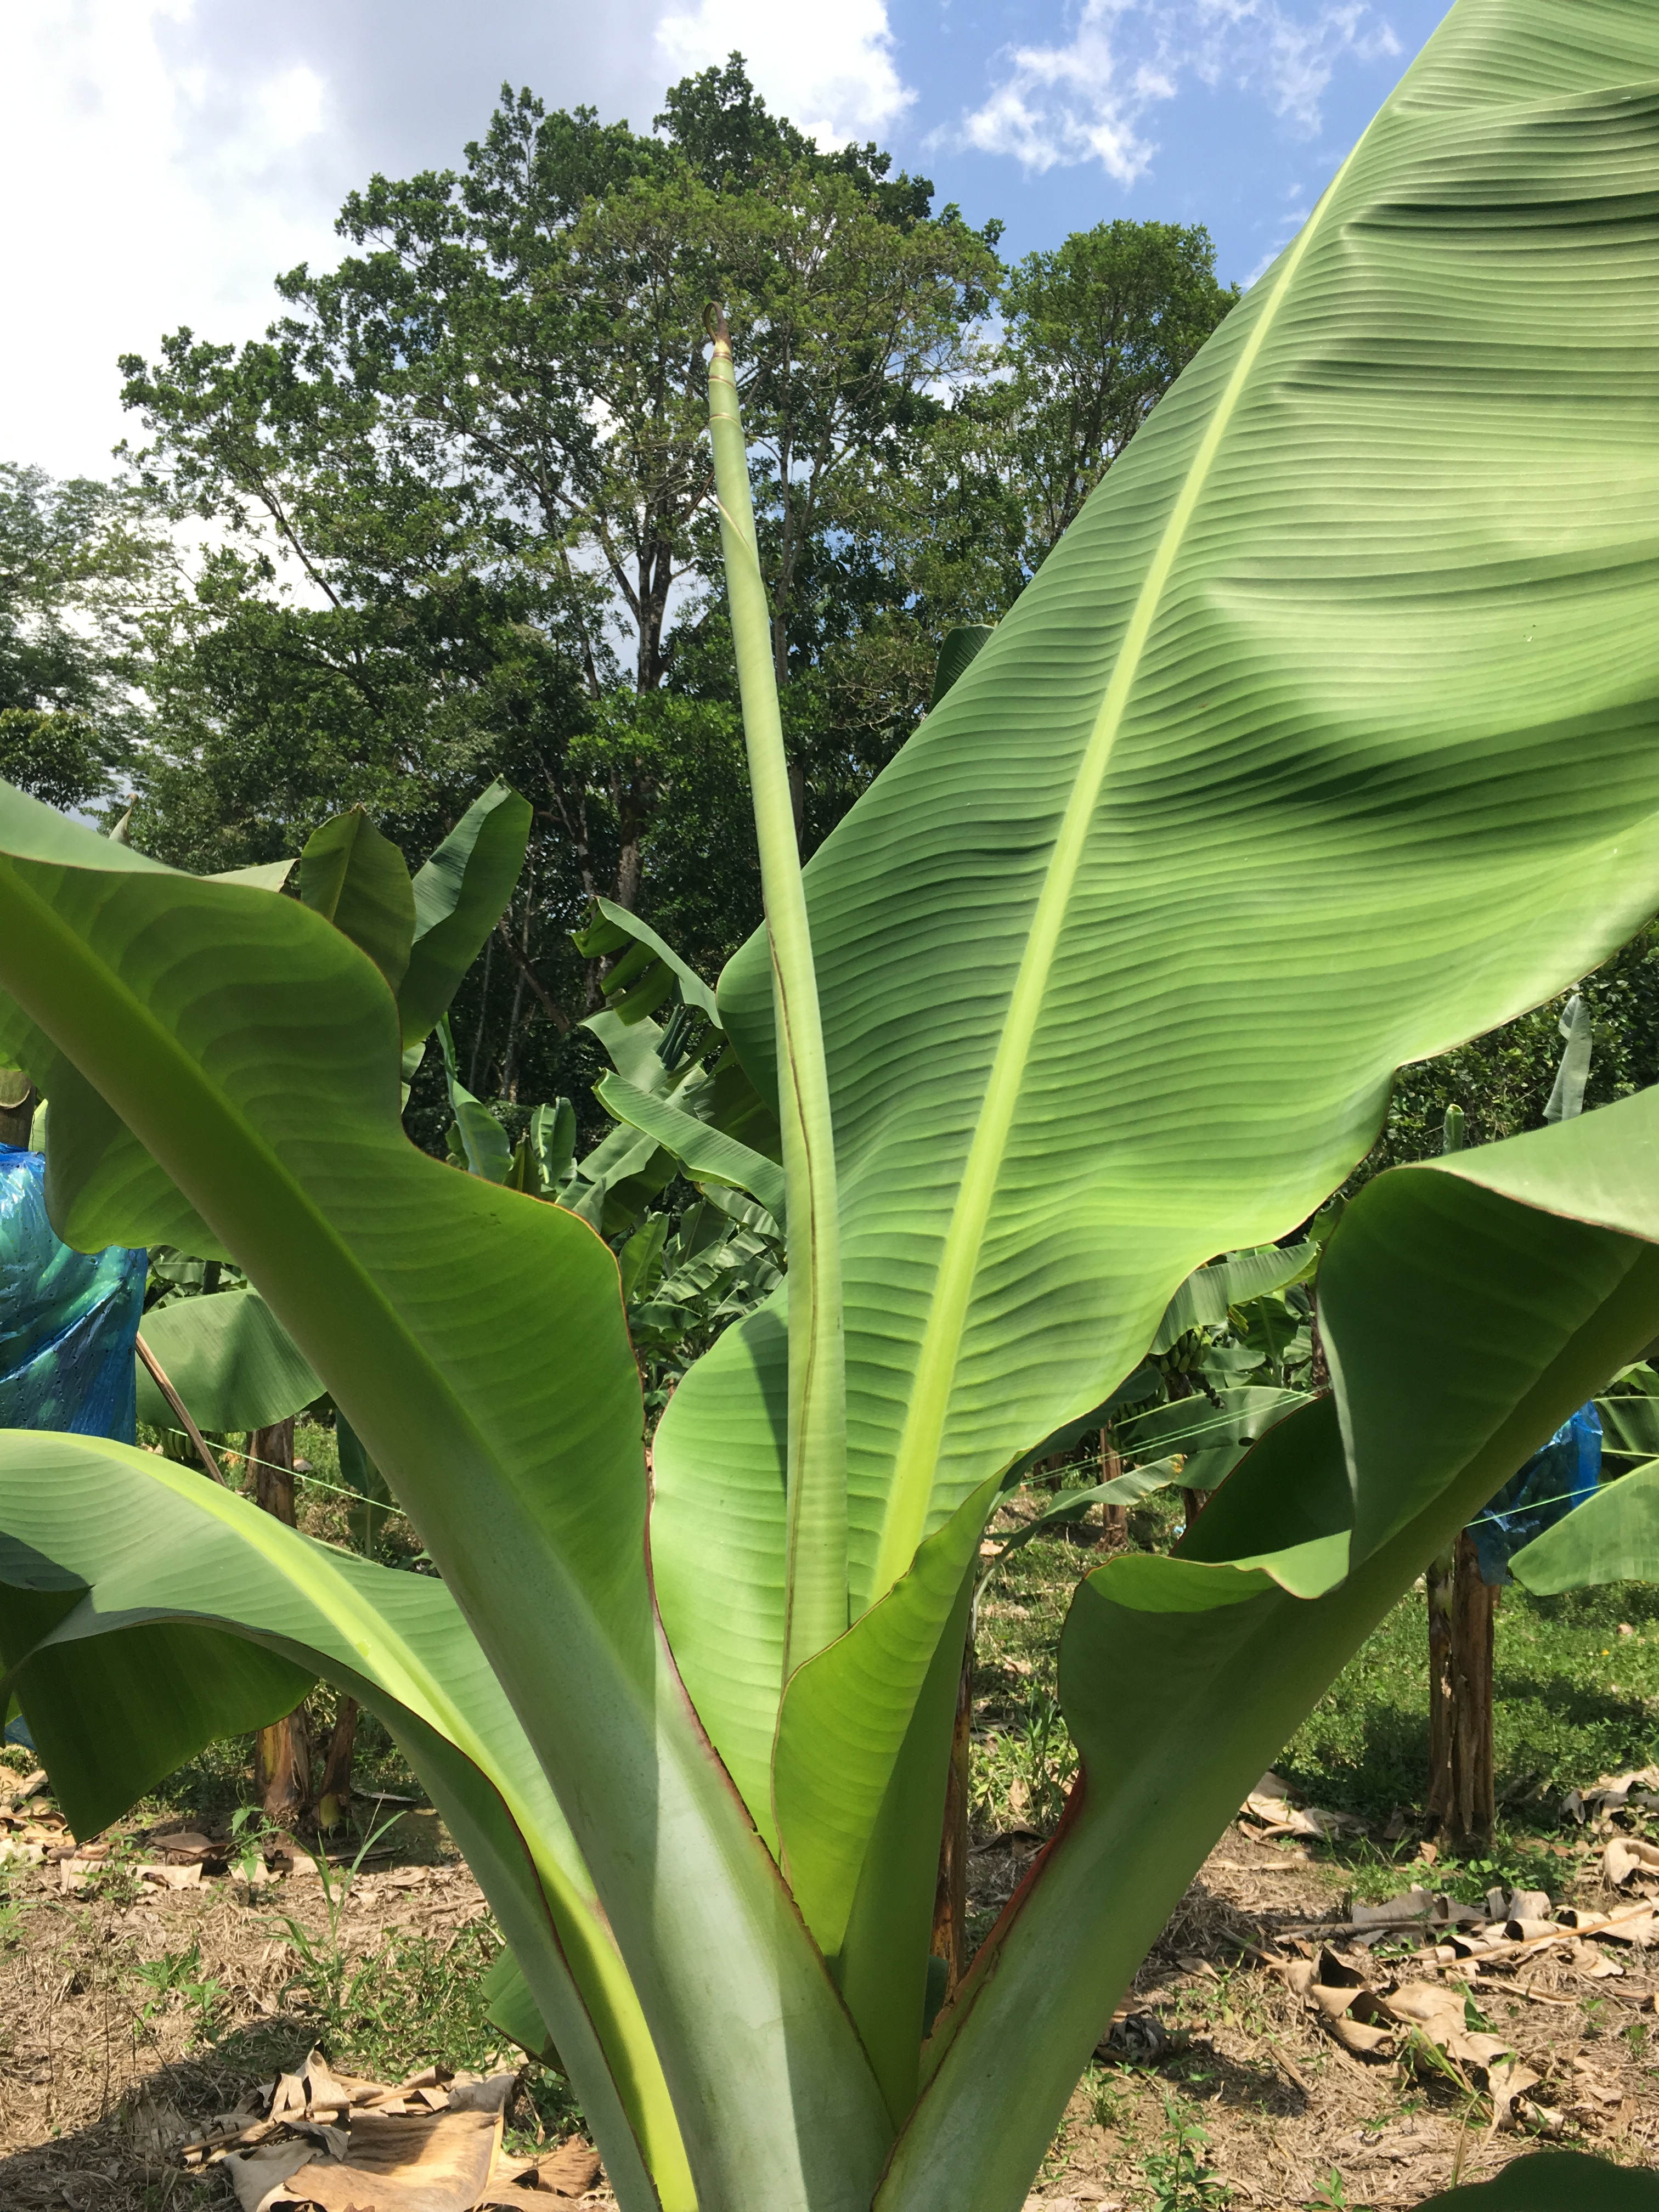candleleafs: (699, 303, 850, 1637)
